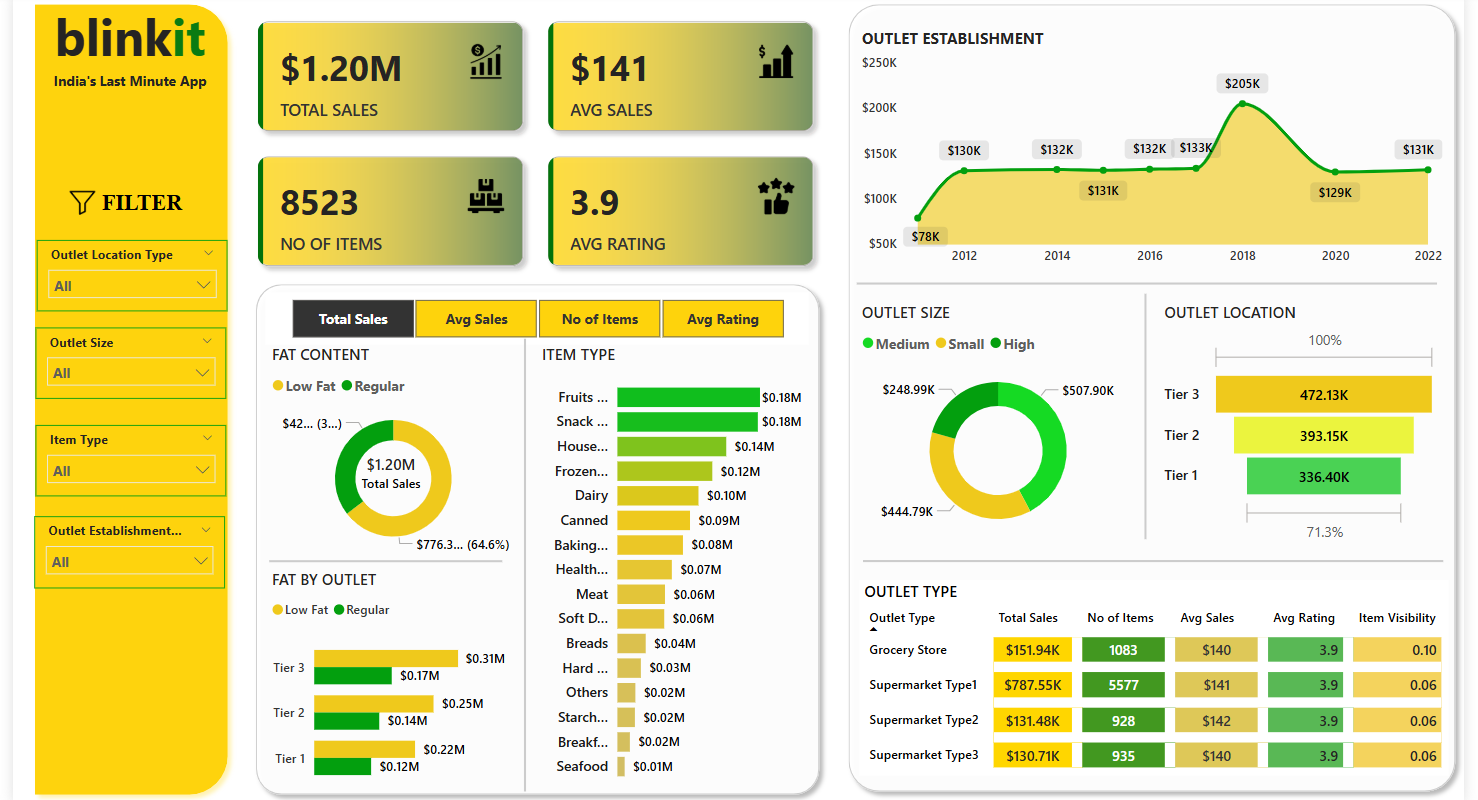

Layout of this report page (visuals, bound fields, positions):
{"tool":"powerbi","page":{"name":"Page 1","canvas":[1400,780],"ordinal":0},"visuals":[{"type":"shape","box":[12,0,204.1,780.4],"z":0},{"type":"textbox","box":[28.5,3,168.1,81],"z":1000},{"type":"textbox","box":[28.5,69,168.1,30],"z":2000},{"type":"cardVisual","fields":{"Data":["BlinkIT Grocery Data.Total Sales","BlinkIT Grocery Data.Avg Sales","BlinkIT Grocery Data.No of Items","BlinkIT Grocery Data.Avg Rating"]},"box":[220,8.3,570,270],"z":3000},{"type":"shape","box":[225.1,270.2,561.3,510.3],"z":4000},{"type":"donutChart","title":"FAT CONTENT","fields":{"Y":["BlinkIT Grocery Data.Total Sales"],"Category":["BlinkIT Grocery Data.Item Fat Content"]},"box":[244.6,336.2,244.6,210.1],"z":5000},{"type":"slicer","fields":{"Values":["Metrics.Metrics"]},"box":[243.1,286.7,523.8,50],"z":6000},{"type":"cardVisual","fields":{"Data":["BlinkIT Grocery Data.Total Sales"]},"box":[315.2,426.2,100.6,69],"z":7000},{"type":"clusteredBarChart","title":"FAT BY OUTLET","fields":{"Y":["BlinkIT Grocery Data.Total Sales"],"Category":["BlinkIT Grocery Data.Outlet Location Type"],"Series":["BlinkIT Grocery Data.Item Fat Content"]},"box":[244.6,553.8,235.6,223.6],"z":8000},{"type":"shape","box":[247.6,534.3,225.1,24],"z":9000},{"type":"shape","box":[487.8,331.7,13.5,436.8],"z":10000},{"type":"barChart","title":"ITEM TYPE","fields":{"Y":["BlinkIT Grocery Data.Total Sales"],"Category":["BlinkIT Grocery Data.Item Type"]},"box":[505.8,336.2,261.2,432.2],"z":11000},{"type":"shape","box":[797,0,603.3,777.4],"z":12000},{"type":"lineChart","title":"OUTLET ESTABLISHMENT","fields":{"Category":["BlinkIT Grocery Data.Outlet Establishment Year"],"Y":["BlinkIT Grocery Data.Total Sales"]},"box":[813.5,31.5,570.3,238.6],"z":13000},{"type":"shape","box":[813.5,270.2,559.8,16.5],"z":14000},{"type":"shape","box":[1086.6,288.2,12,237.1],"z":15000},{"type":"donutChart","title":"OUTLET SIZE","fields":{"Category":["BlinkIT Grocery Data.Outlet Size"],"Y":["BlinkIT Grocery Data.Total Sales"]},"box":[813.5,295.7,273.2,238.6],"z":16000},{"type":"funnel","title":"OUTLET LOCATION","fields":{"Y":["Sum(BlinkIT Grocery Data.Sales)"],"Category":["BlinkIT Grocery Data.Outlet Location Type"]},"box":[1106.1,295.7,273.2,238.6],"z":17000},{"type":"shape","box":[819.5,537.3,559.8,16.5],"z":18000},{"type":"pivotTable","title":"OUTLET TYPE","fields":{"Rows":["BlinkIT Grocery Data.Outlet Type"],"Values":["BlinkIT Grocery Data.Total Sales","BlinkIT Grocery Data.No of Items","BlinkIT Grocery Data.Avg Sales","BlinkIT Grocery Data.Avg Rating","Avg(BlinkIT Grocery Data.Item Visibility)"]},"box":[816.5,564.3,568.8,189.1],"z":19000},{"type":"slicer","fields":{"Values":["BlinkIT Grocery Data.Outlet Location Type"]},"box":[23,236,184,69],"z":20000},{"type":"slicer","fields":{"Values":["BlinkIT Grocery Data.Outlet Size"]},"box":[22,321,184,69],"z":21000},{"type":"slicer","fields":{"Values":["BlinkIT Grocery Data.Item Type"]},"box":[21.4,414.3,184.3,68.6],"z":22000},{"type":"textbox","box":[81,183.1,105.1,34.5],"z":23000},{"type":"image","box":[40.5,183.1,52.5,34.5],"z":24000},{"type":"slicer","fields":{"Values":["BlinkIT Grocery Data.Outlet Establishment Year"]},"box":[21,503,183.9,69.6],"z":24001}]}

Visuals, with their boxes in screenshot pixels (x1, y1, x2, y2), scaled from the page's 1400x780 canvas onto the 1478x800 screenshot:
shape: crop(13, 0, 228, 799)
textbox: crop(30, 3, 208, 86)
textbox: crop(30, 71, 208, 102)
cardVisual - BlinkIT Grocery Data.Total Sales x BlinkIT Grocery Data.Avg Sales: crop(232, 9, 834, 285)
shape: crop(238, 277, 830, 799)
"FAT CONTENT" donutChart: crop(258, 345, 516, 560)
slicer - Metrics.Metrics: crop(257, 294, 810, 345)
cardVisual - BlinkIT Grocery Data.Total Sales: crop(333, 437, 439, 508)
"FAT BY OUTLET" clusteredBarChart: crop(258, 568, 507, 797)
shape: crop(261, 548, 499, 573)
shape: crop(515, 340, 529, 788)
"ITEM TYPE" barChart: crop(534, 345, 810, 788)
shape: crop(841, 0, 1477, 797)
"OUTLET ESTABLISHMENT" lineChart: crop(859, 32, 1461, 277)
shape: crop(859, 277, 1450, 294)
shape: crop(1147, 296, 1160, 539)
"OUTLET SIZE" donutChart: crop(859, 303, 1147, 548)
"OUTLET LOCATION" funnel: crop(1168, 303, 1456, 548)
shape: crop(865, 551, 1456, 568)
"OUTLET TYPE" pivotTable: crop(862, 579, 1462, 773)
slicer - BlinkIT Grocery Data.Outlet Location Type: crop(24, 242, 219, 313)
slicer - BlinkIT Grocery Data.Outlet Size: crop(23, 329, 217, 400)
slicer - BlinkIT Grocery Data.Item Type: crop(23, 425, 217, 495)
textbox: crop(86, 188, 196, 223)
image: crop(43, 188, 98, 223)
slicer - BlinkIT Grocery Data.Outlet Establishment Year: crop(22, 516, 216, 587)
